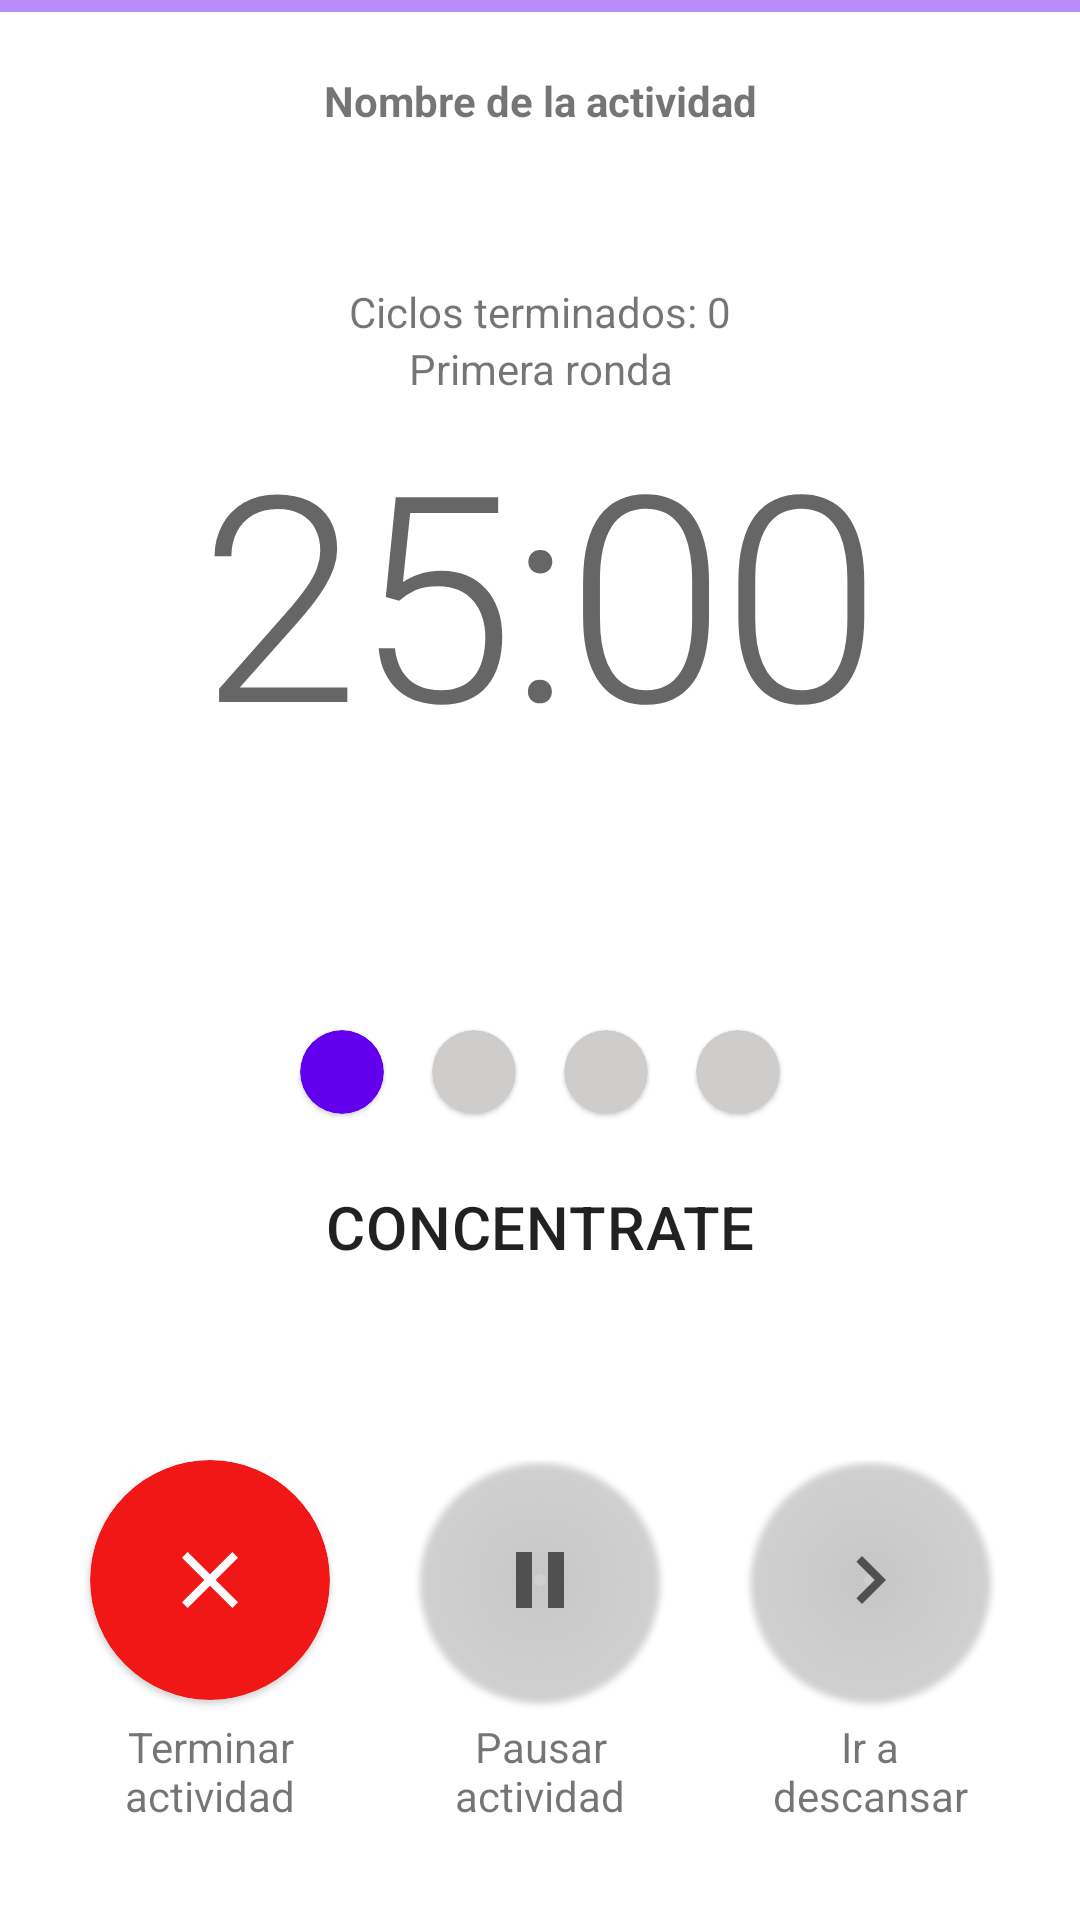

Icons on this 1080 × 1920 Android screen, each with the point to tap as point (x, y):
close: point (210, 1580)
next: point (871, 1580)
pause: point (540, 1580)
